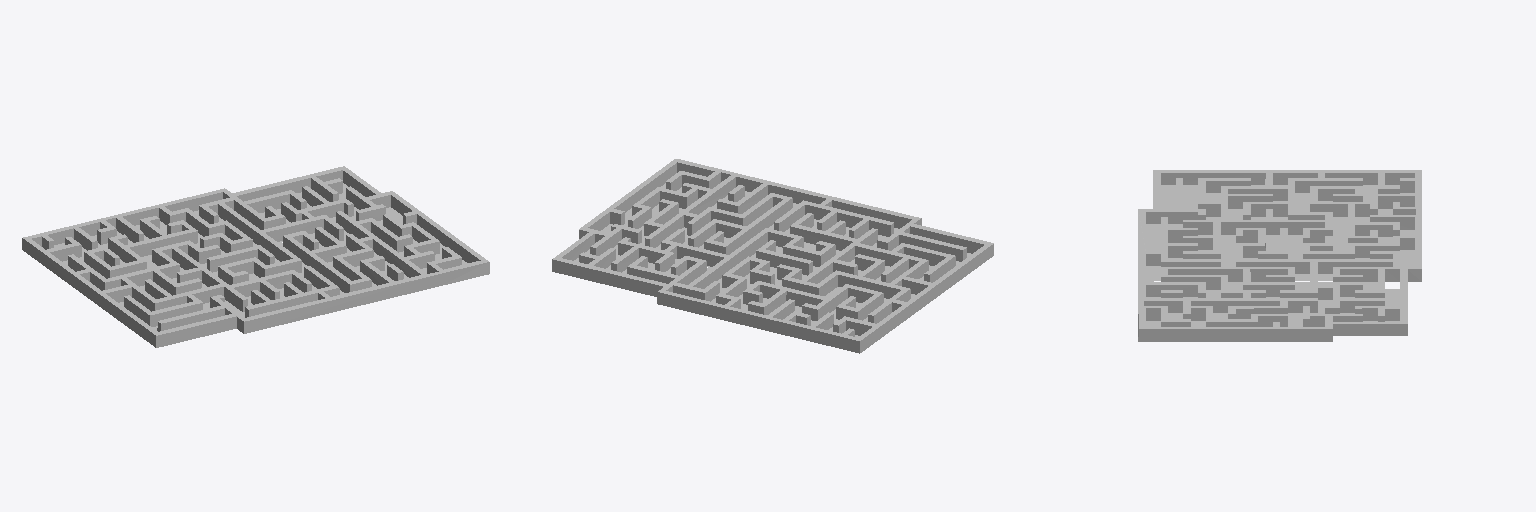
The model's file is maze1.obj.
3 renders of one model, left to right at view 1: azimuth 30°, elevation 25°; view 2: azimuth 150°, elevation 25°; view 3: azimuth 270°, elevation 25°, orthographic.
Visible parts, largest first — view 1: LABIRINTO; view 2: LABIRINTO; view 3: LABIRINTO.
Part boxes in pixels (left/top/right/bottom): LABIRINTO: left=22, top=166, right=489, bottom=347; LABIRINTO: left=552, top=159, right=993, bottom=353; LABIRINTO: left=1138, top=170, right=1421, bottom=341.
Bounding box in the file's own units: 24.14 × 0.8714 × 18.16.